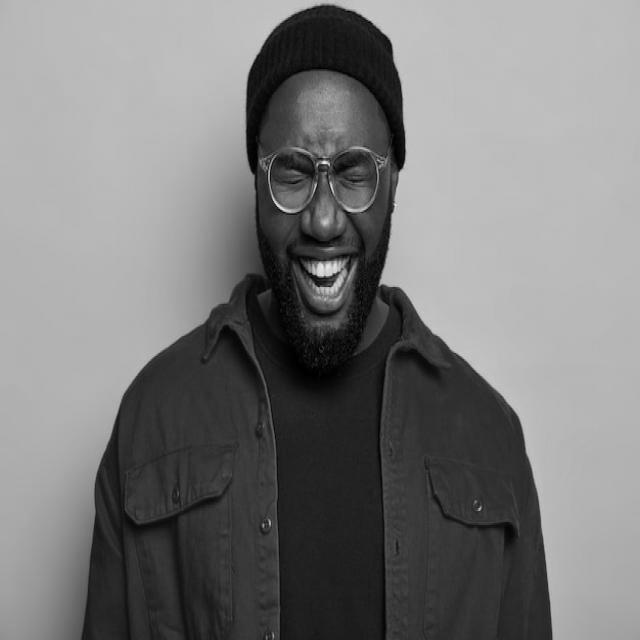real: (242, 61, 404, 371), (262, 146, 390, 210)
